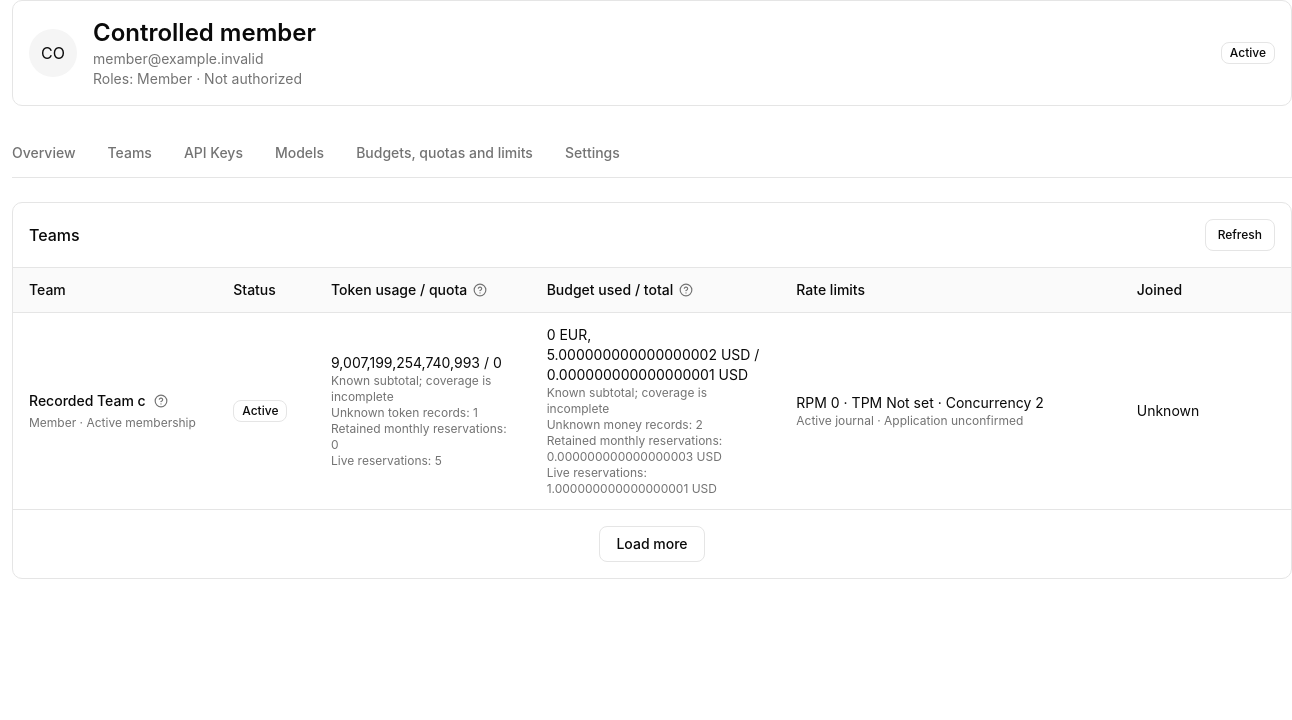
Test case: hides all prior pages on malformed overlapping pagination
This screenshot has width=1292, height=720.
Click the button "Load more".
click(652, 544)  # box top-left (599, 526), bottom-right (704, 562)
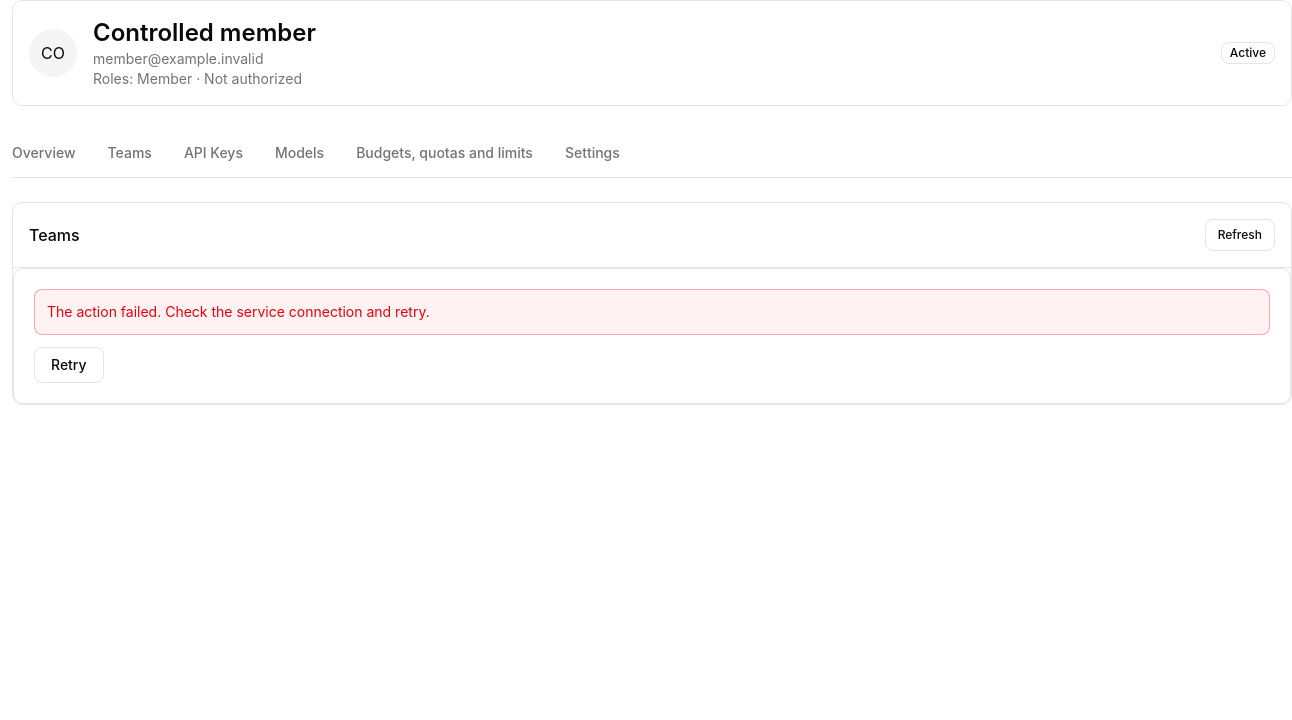
Expected: the text "The action failed. Check the service connection and retry." is shown, top-left (34, 289), bottom-right (1270, 335)
Expected: the text "Recorded Team c" is gone
